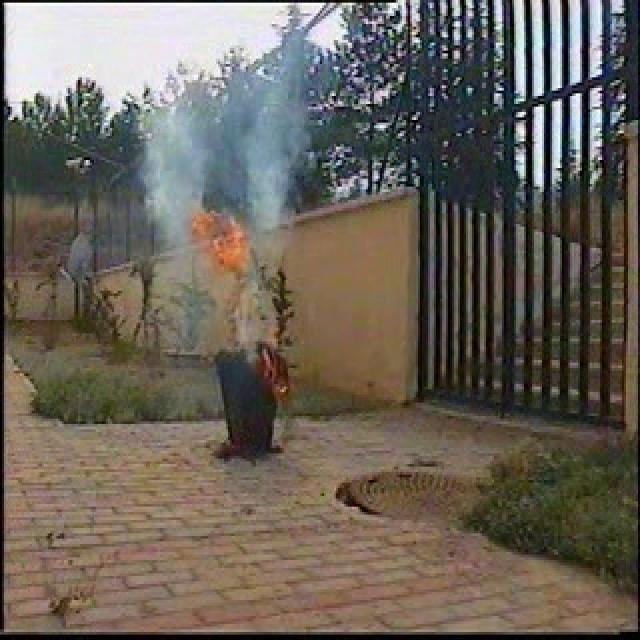smoke: (246, 89, 288, 258), (153, 112, 194, 248)
